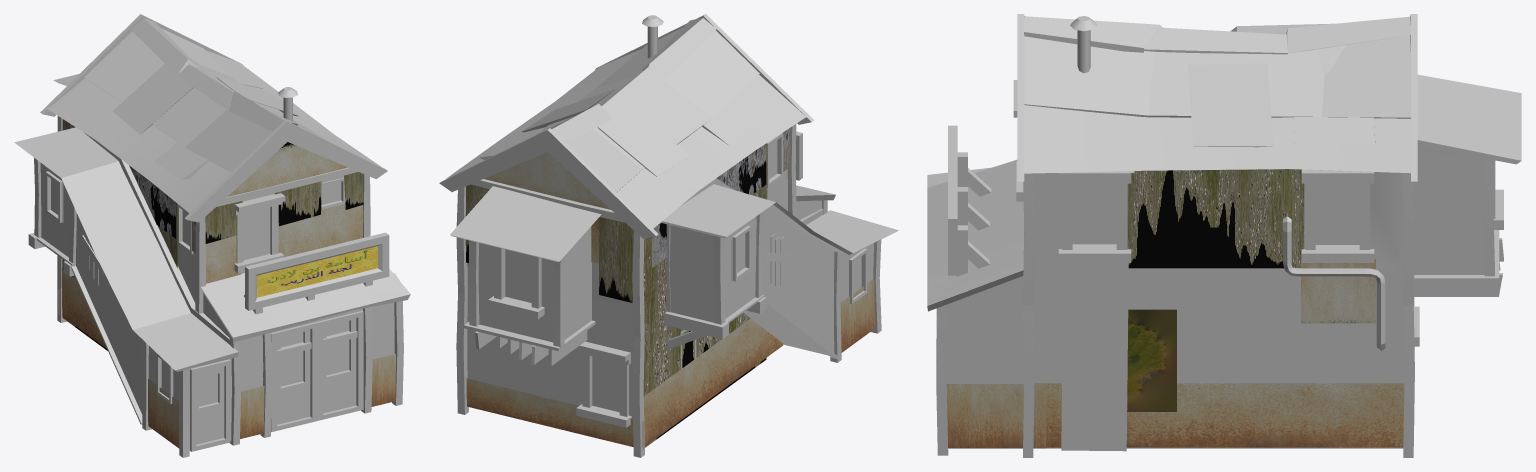
3 renders of one model, left to right at view 1: azimuth 30°, elevation 25°; view 2: azimuth 150°, elevation 25°; view 3: azimuth 270°, elevation 25°, orthographic. The views are drawn at different scales.
Visible parts, largest first — view 1: house; view 2: house; view 3: house.
Part boxes in pixels (x1,y1,x2,y2): house: (14,14,410,457); house: (439,14,898,457); house: (927,14,1521,457).
Bounding box in the file's own units: 647 × 734 × 990.
